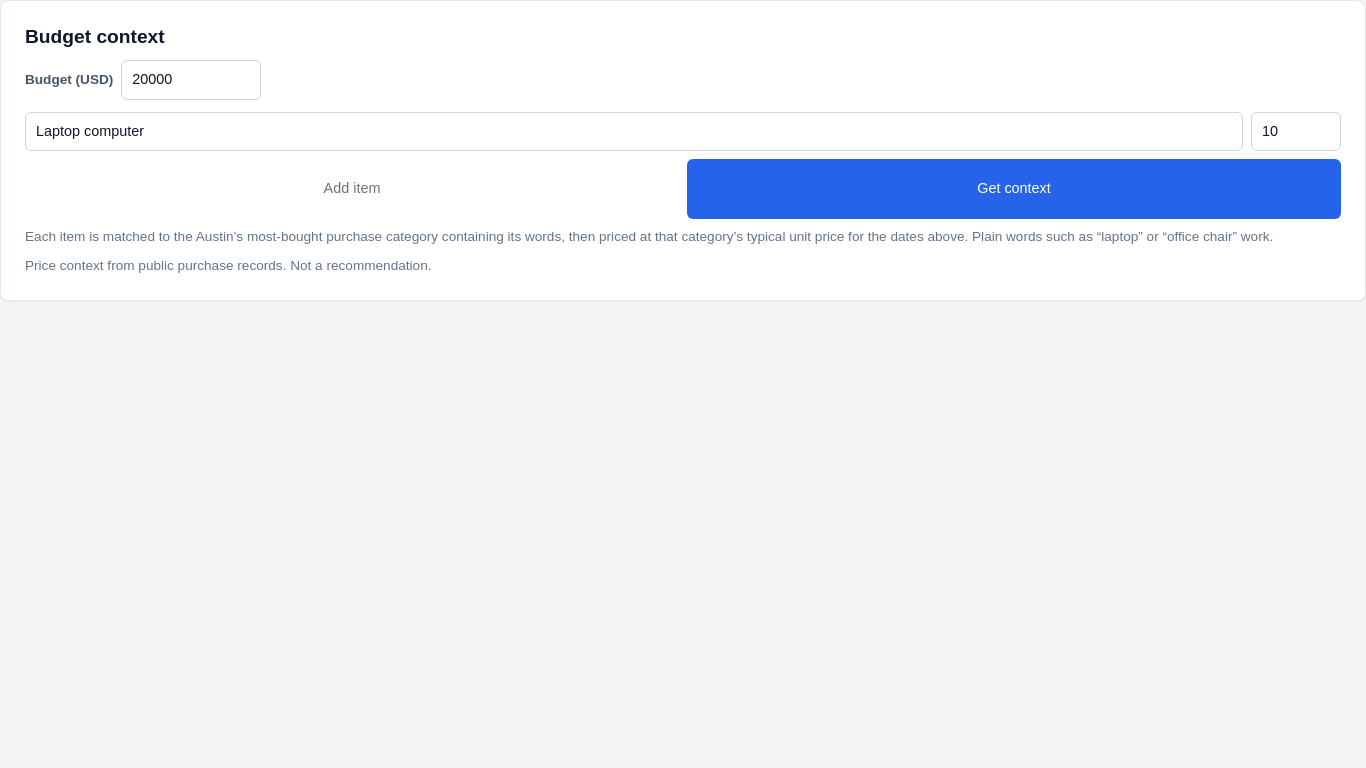
Test: BudgetContextPanel › posts items with the selected government and dates and shows "Can't tell" when an item is unpriced
Replace the text in the number field labelled "Budget (USD)" with "5000" at (191, 80), box [121,60,261,100]
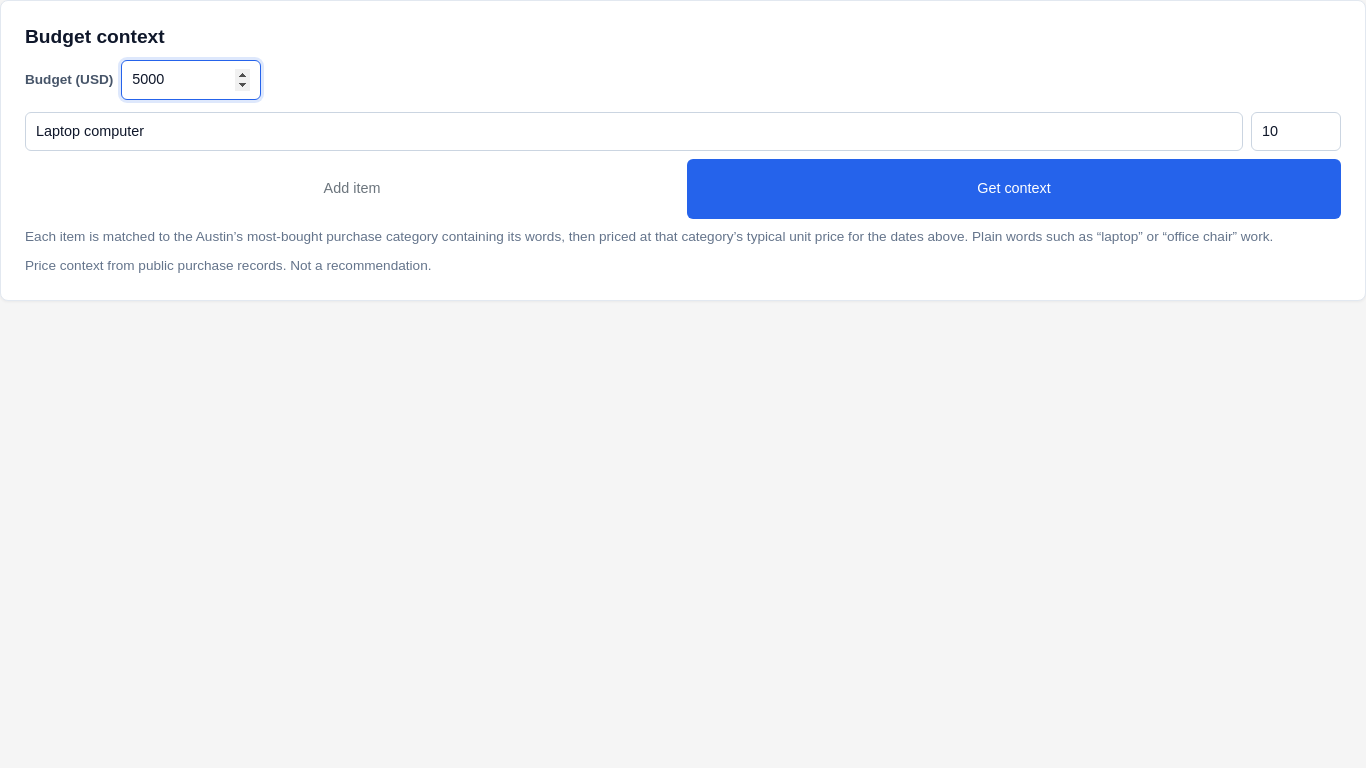
Replace the text in the field named "Item 1 description" with "laptop" at (634, 131), box [25,112,1243,151]
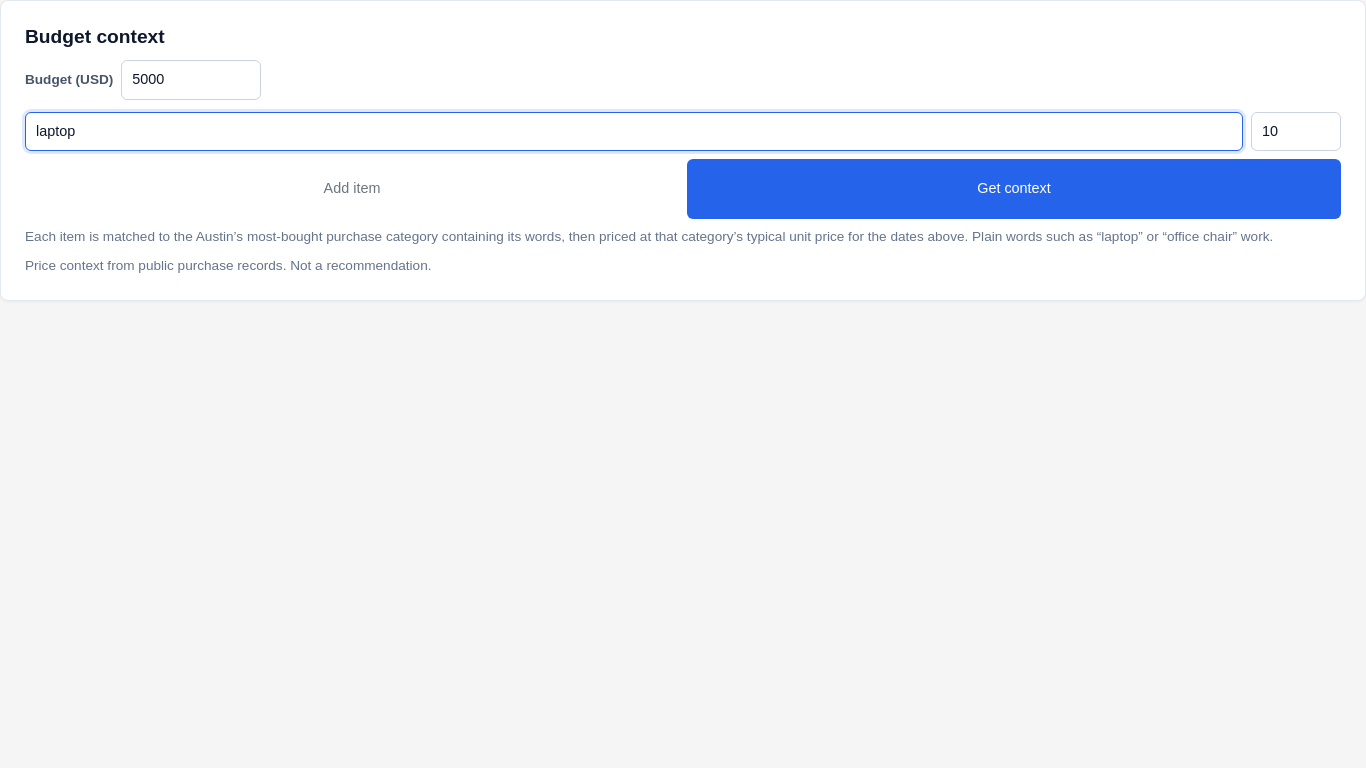
Replace the text in the number field named "Item 1 quantity" with "2" at (1296, 131), box [1251,112,1341,151]
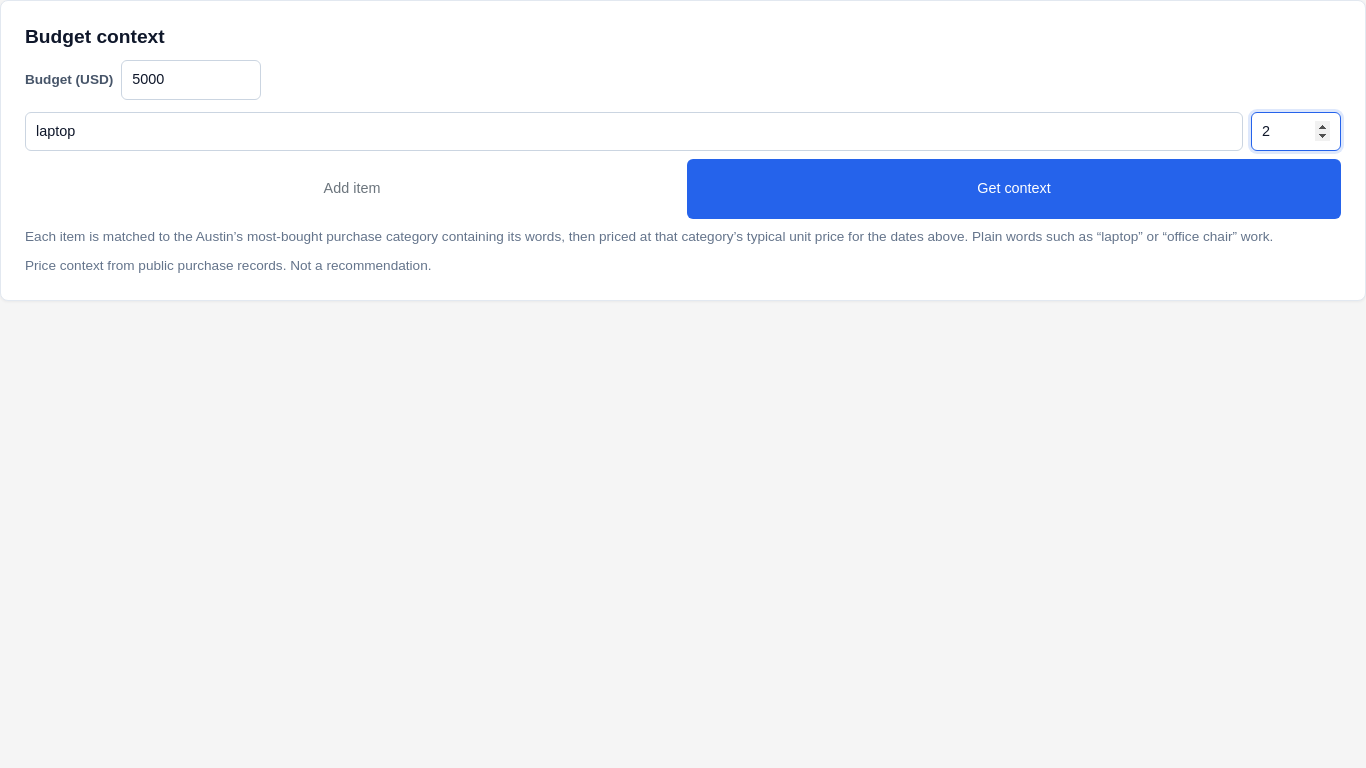
Click the button "Add item" at (352, 189), box [25,159,679,219]
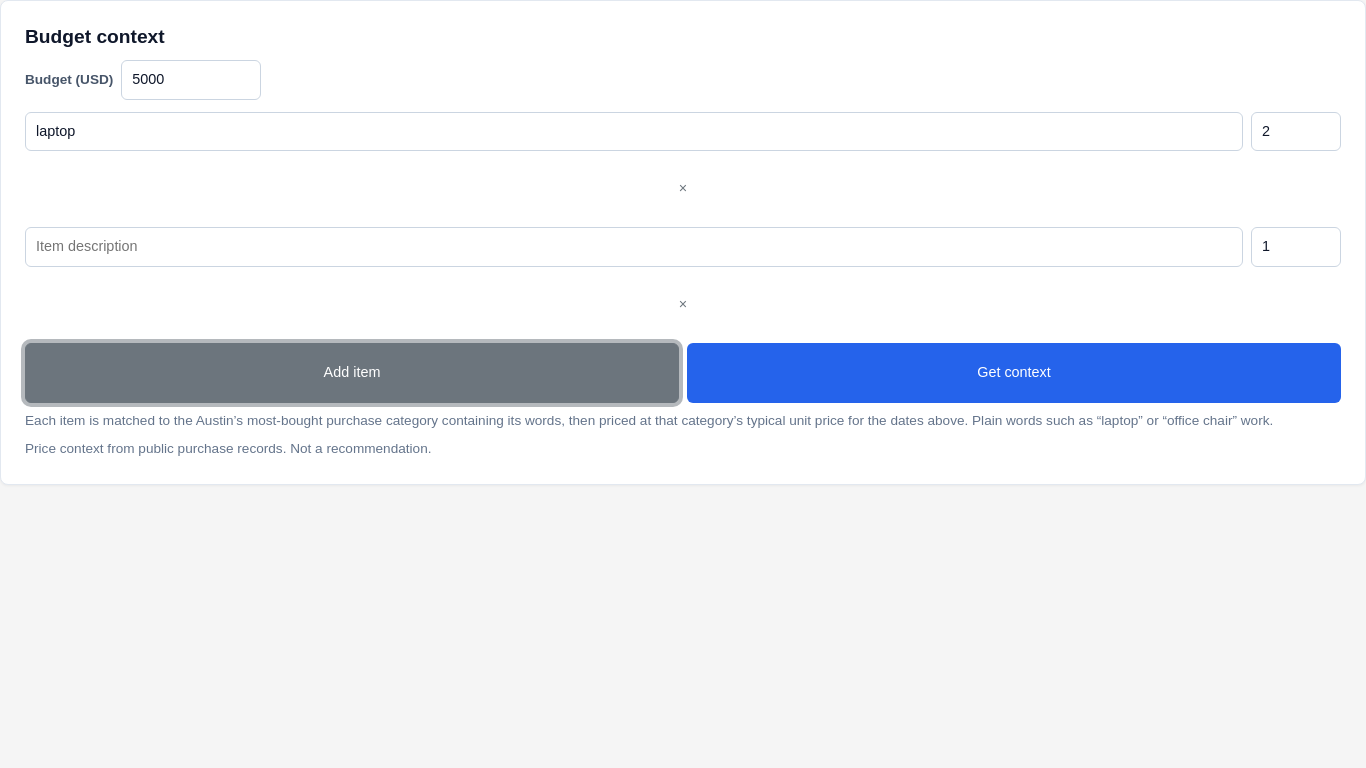
Type "quantum widget" into the field named "Item 2 description" at (634, 247), box [25,227,1243,267]
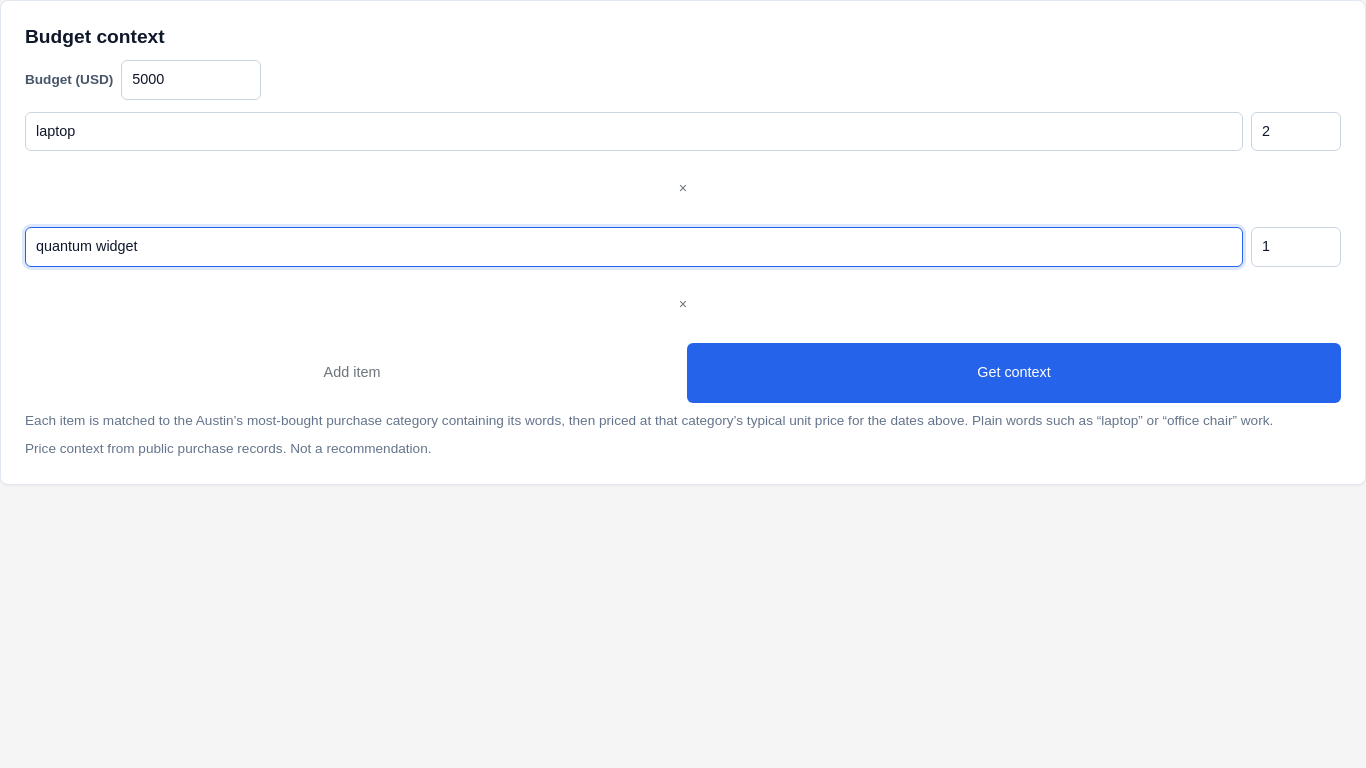
Click the button "Get context" at (1014, 373), box [687,343,1341,403]
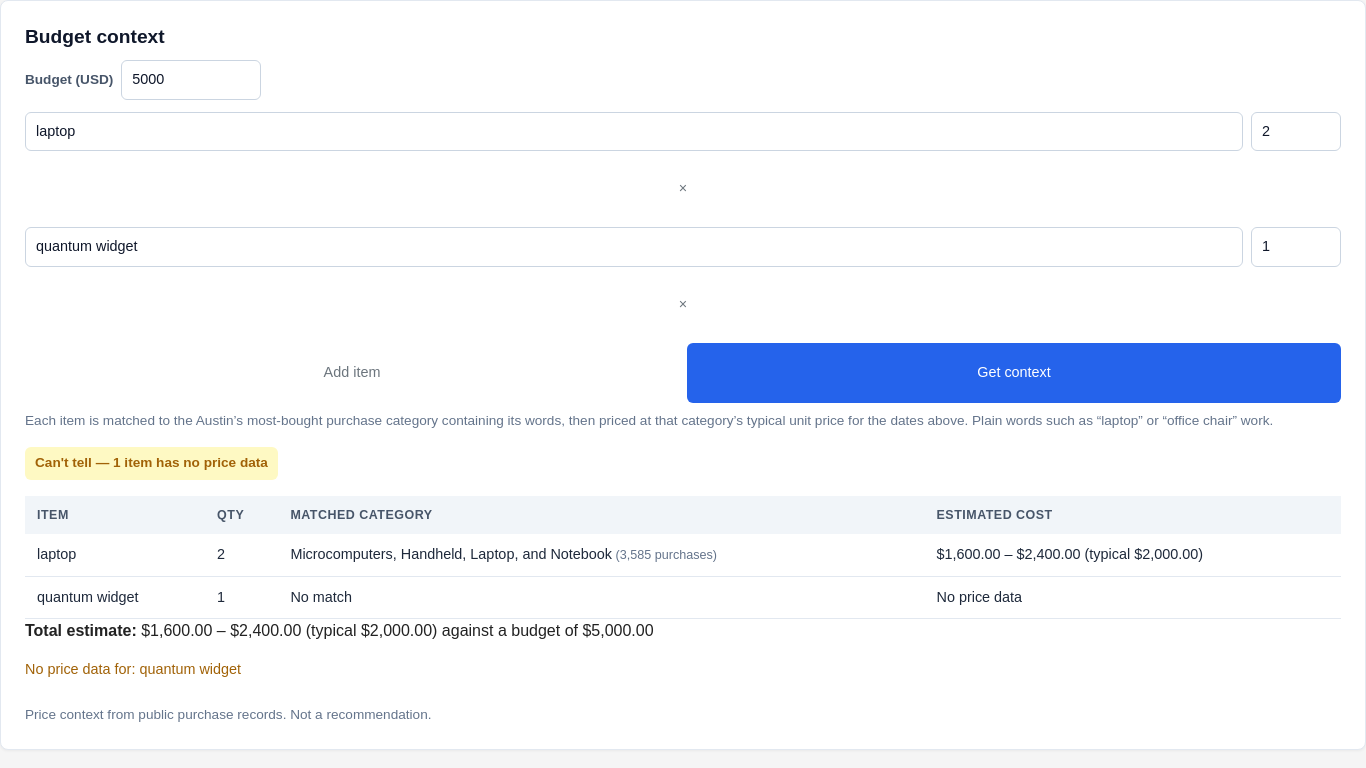
Expected: the text "Can't tell — 1 item has no price data" is shown, [25,447,278,480]
Expected: the text "Microcomputers, Handheld, Laptop, and Notebook" is shown, [290,546,612,562]
Expected: the text "(3,585 purchases)" is shown, [612,548,717,562]
